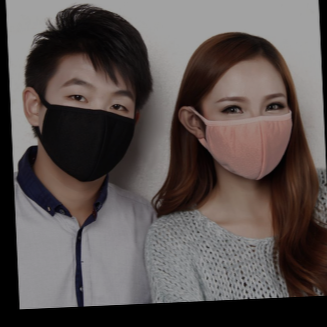with_mask: (38, 75, 138, 184), (205, 90, 294, 184)
